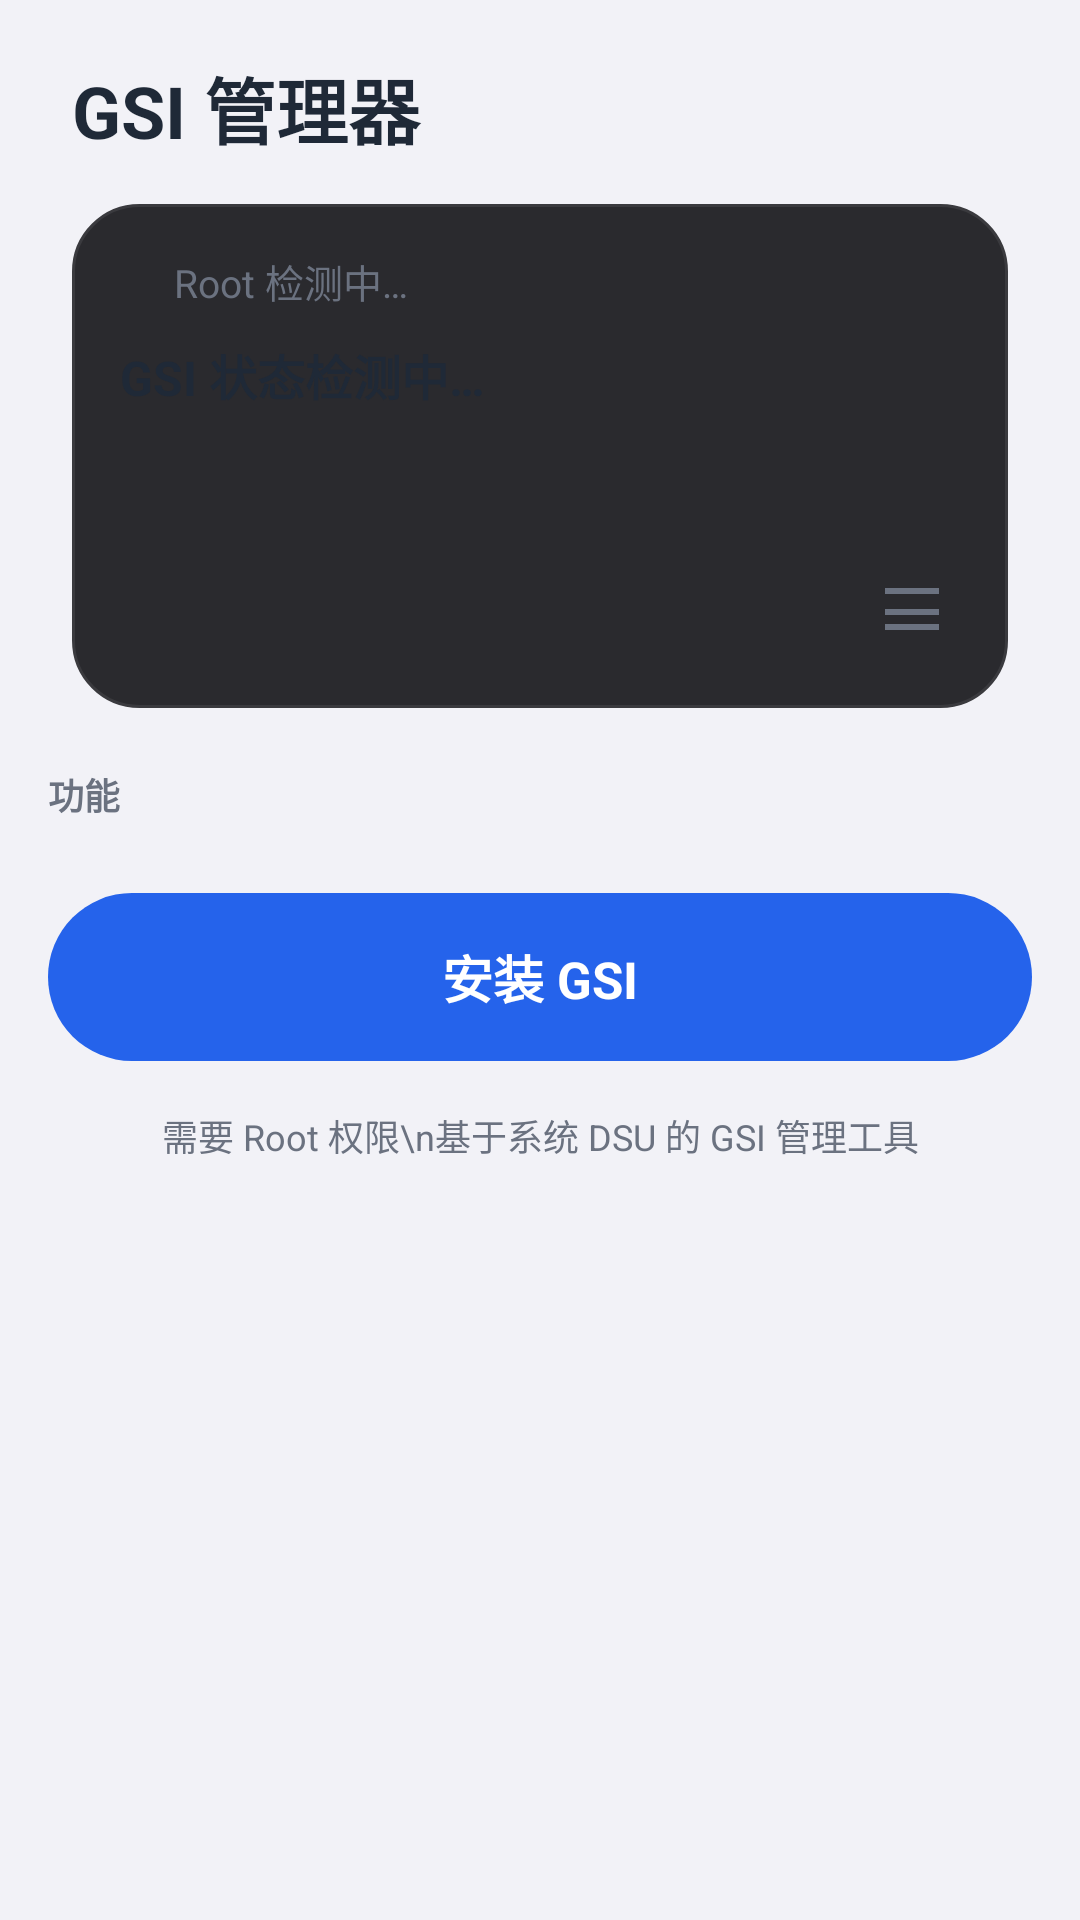

Where to tap for icons on this 1080 x 1920 app screen, as point (x, y):
菜单: point (912, 609)
